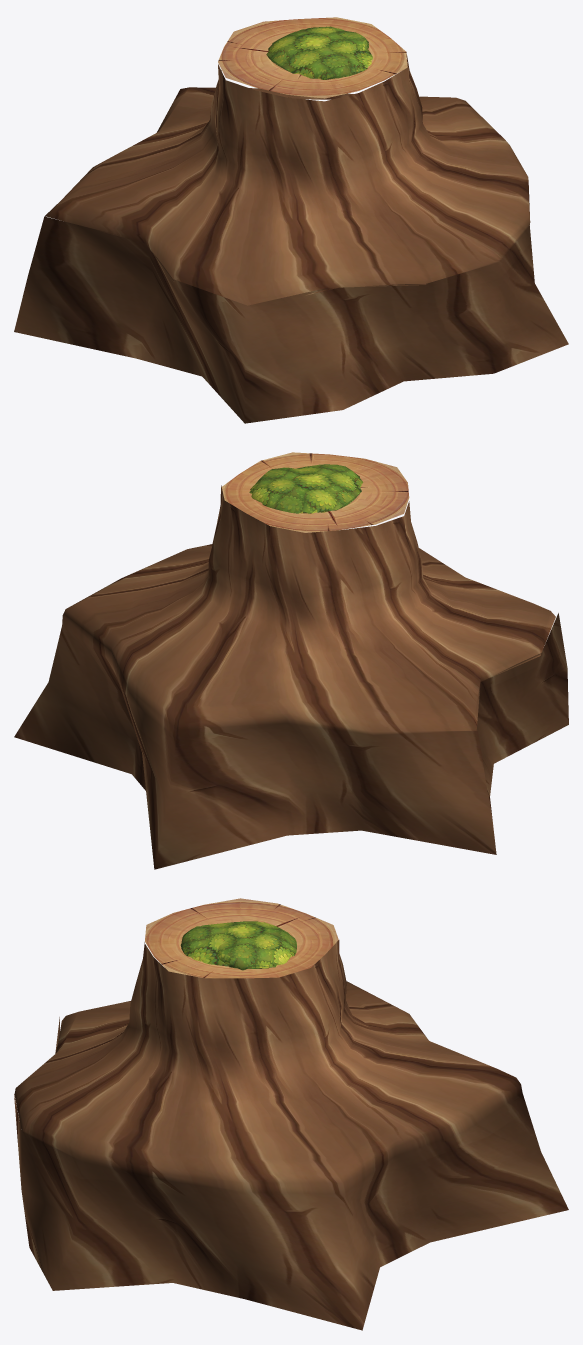
The model's file is mossy_stump1_s8074.gltf.
3 renders of one model, top to bottom at view 1: azimuth 30°, elevation 25°; view 2: azimuth 150°, elevation 25°; view 3: azimuth 270°, elevation 25°, orthographic. The views are drawn at different scales.
Parts seen in each view (by area): view 1: mossy_stump1_s8074_bark_LOD0, mossy_stump1_s8074_cap_LOD0, mossy_stump1_s8074_moss_LOD0; view 2: mossy_stump1_s8074_bark_LOD0, mossy_stump1_s8074_cap_LOD0, mossy_stump1_s8074_moss_LOD0; view 3: mossy_stump1_s8074_bark_LOD0, mossy_stump1_s8074_cap_LOD0, mossy_stump1_s8074_moss_LOD0.
Part boxes in pixels (x1=…): mossy_stump1_s8074_bark_LOD0: x1=14, y1=52, x2=568, y2=423; mossy_stump1_s8074_cap_LOD0: x1=218, y1=17, x2=407, y2=98; mossy_stump1_s8074_moss_LOD0: x1=266, y1=26, x2=372, y2=79; mossy_stump1_s8074_bark_LOD0: x1=14, y1=485, x2=568, y2=869; mossy_stump1_s8074_cap_LOD0: x1=221, y1=452, x2=409, y2=532; mossy_stump1_s8074_moss_LOD0: x1=249, y1=464, x2=363, y2=513; mossy_stump1_s8074_bark_LOD0: x1=14, y1=940, x2=568, y2=1330; mossy_stump1_s8074_cap_LOD0: x1=145, y1=898, x2=338, y2=978; mossy_stump1_s8074_moss_LOD0: x1=180, y1=921, x2=296, y2=970.
Size of what is drawn, in the model's own units: 1.55 by 0.8414 by 1.51.
Materials: 3 (3 with a texture image).
